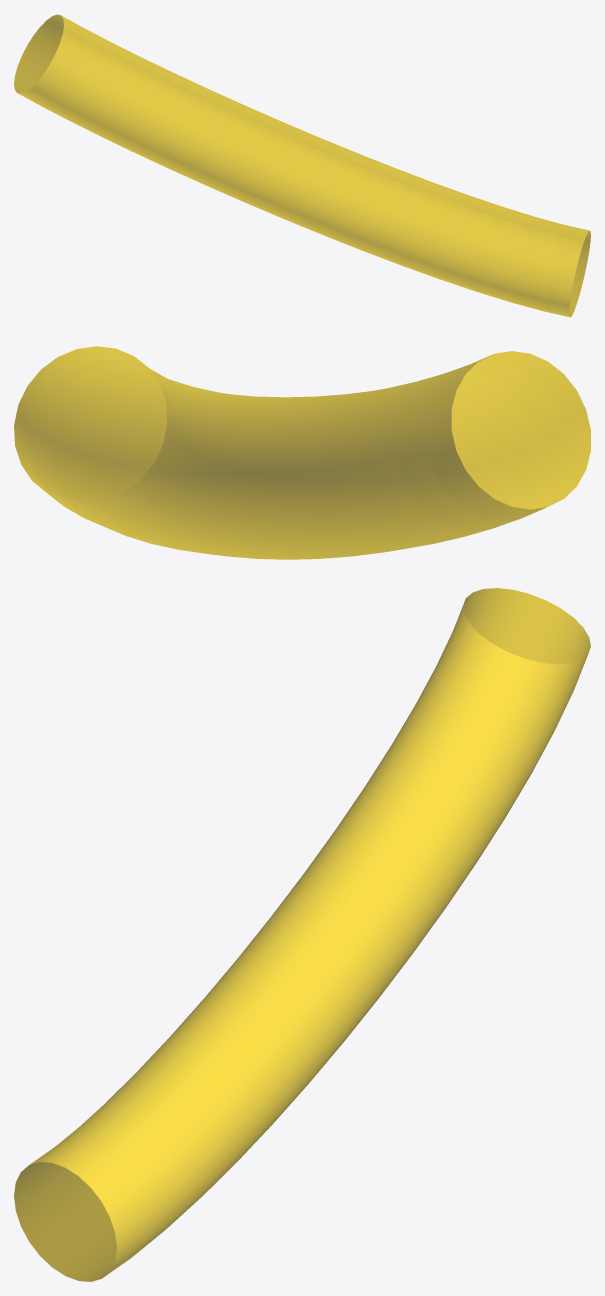
The model's file is Event_27938768_track_49.fbx.
The picture shows the model from 3 angles, top to bottom: view 1: azimuth 30°, elevation 25°; view 2: azimuth 150°, elevation 25°; view 3: azimuth 270°, elevation 25°; orthographic projection. The views are drawn at different scales.
Parts seen in each view (by area): view 1: Model; view 2: Model; view 3: Model.
Boxes of the visible parts, bbox=[...] form: Model: bbox=[14, 14, 590, 317]; Model: bbox=[14, 346, 590, 559]; Model: bbox=[14, 588, 590, 1281].
Bounding box in the file's own units: 0.2273 × 0.1368 × 0.1706.
